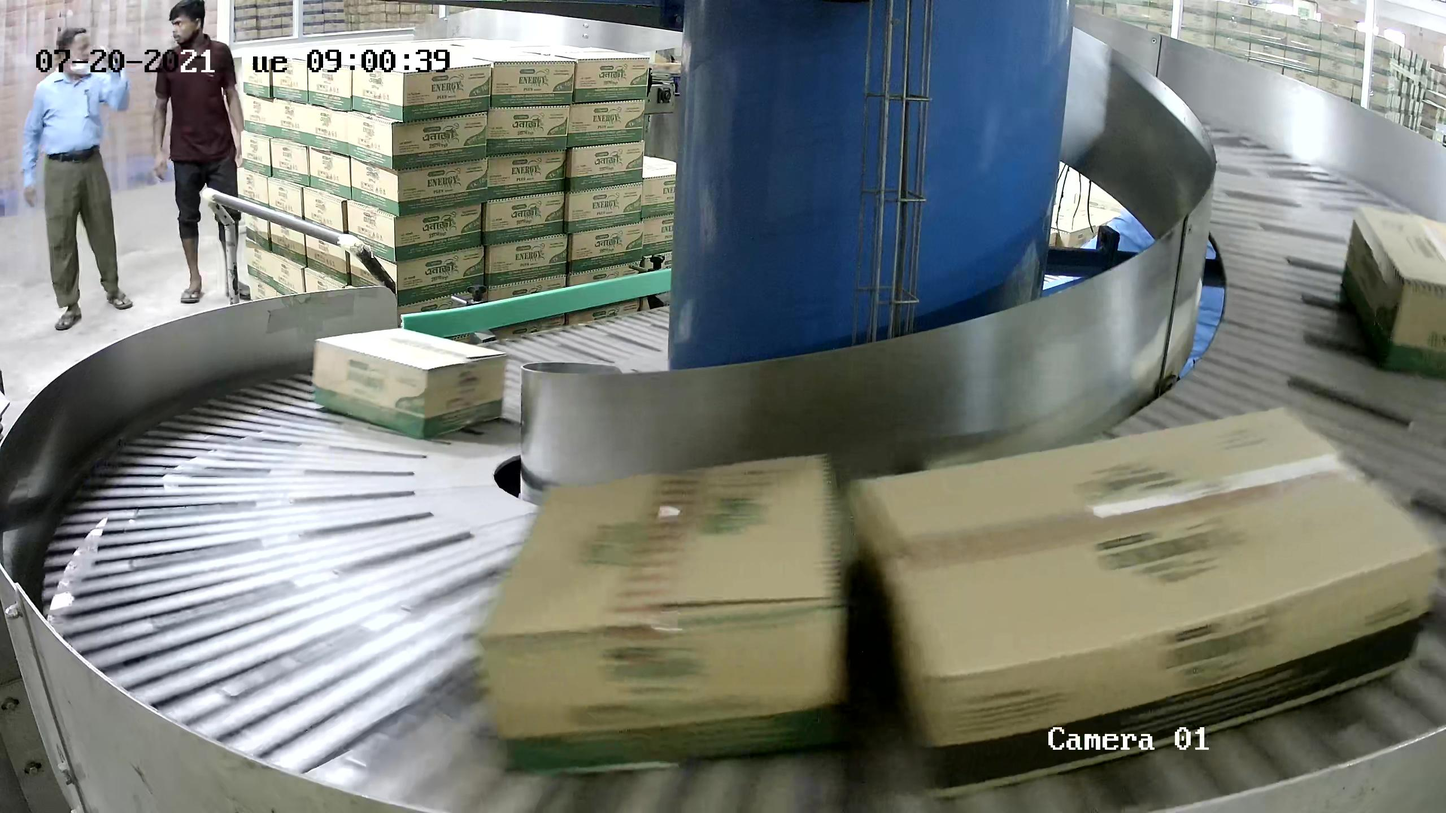Box: (853, 403, 1439, 799), (472, 451, 855, 778), (312, 327, 510, 440), (1336, 204, 1446, 387)
